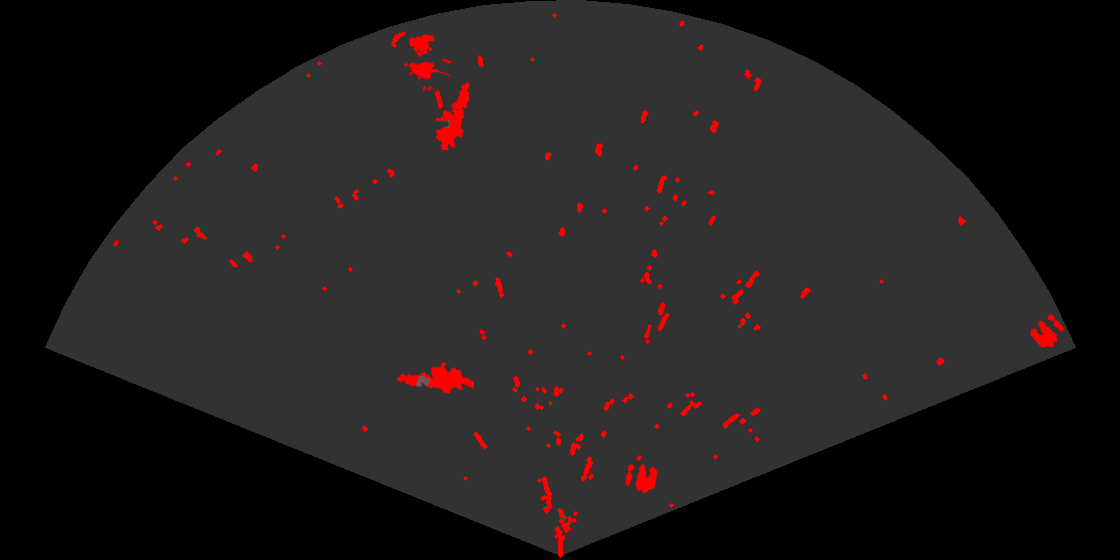ball: (1029, 313, 1066, 349), (624, 462, 659, 495)
cage: (402, 32, 451, 91)
frogman: (395, 360, 474, 395), (434, 81, 471, 150)
